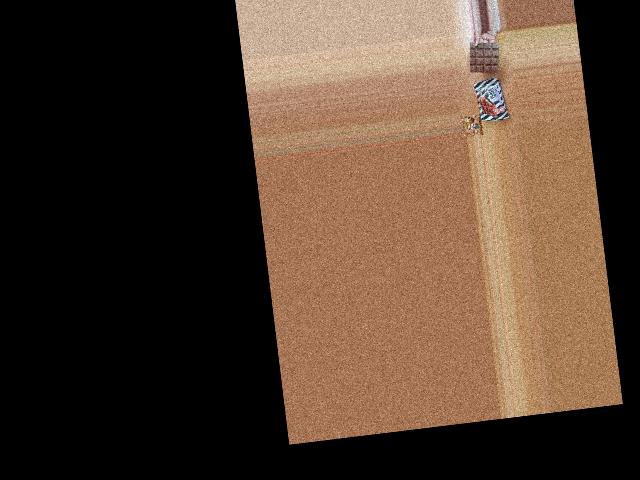chocolate: (474, 75, 508, 124)
